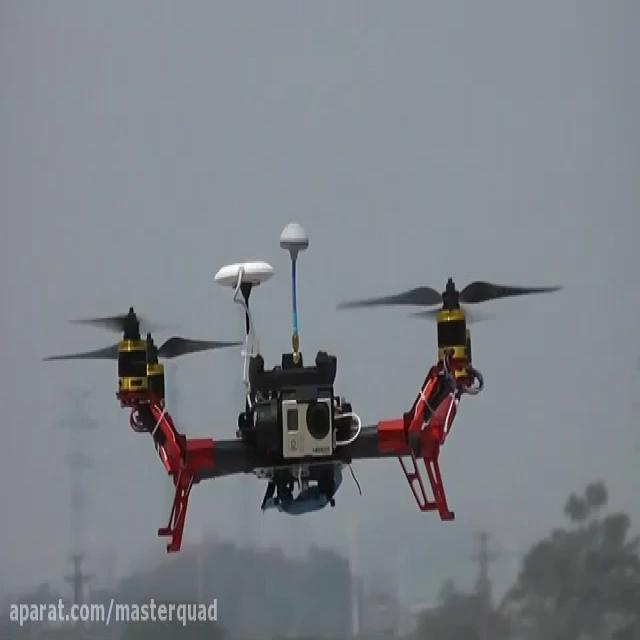drone: (38, 215, 571, 558)
